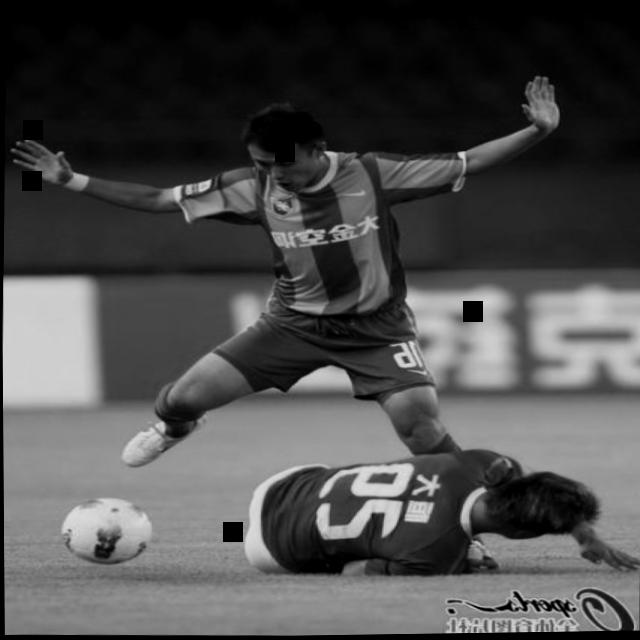Fall-Detected: (227, 425, 640, 580)
